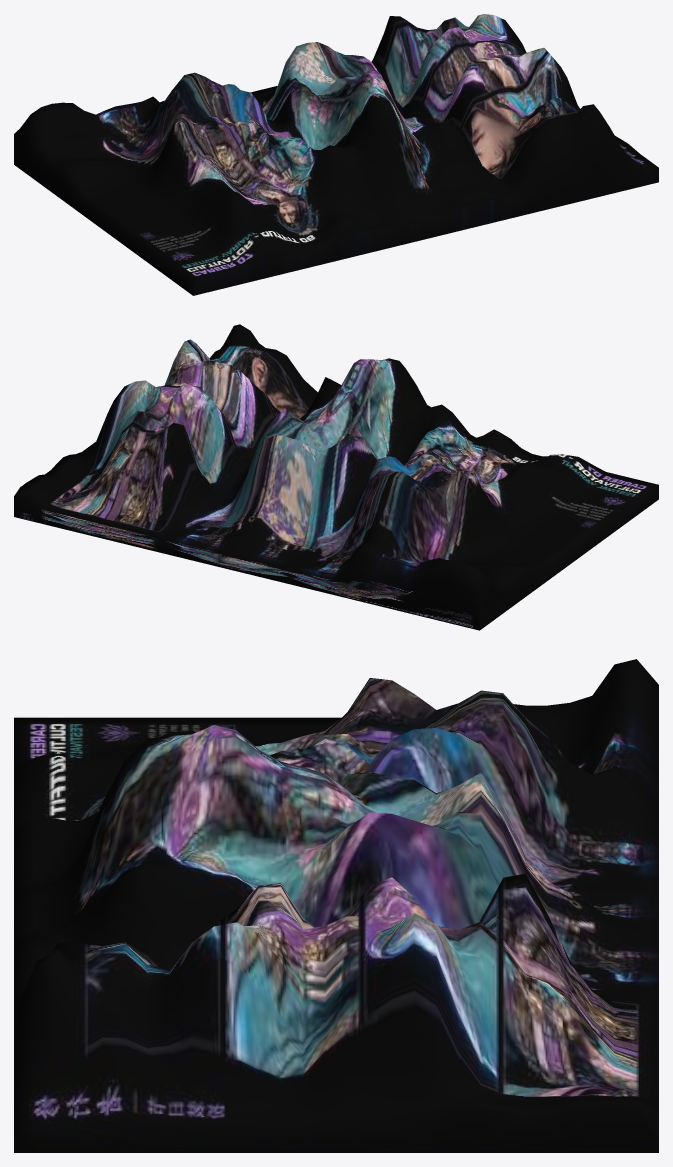
Rendered from CAREER_07_Outfit_08_Festival.glb.
3 renders of one model, top to bottom at view 1: azimuth 30°, elevation 25°; view 2: azimuth 150°, elevation 25°; view 3: azimuth 270°, elevation 25°, orthographic. The views are drawn at different scales.
Parts seen in each view (by area): view 1: CAREER_07_Outfit_08_Festival; view 2: CAREER_07_Outfit_08_Festival; view 3: CAREER_07_Outfit_08_Festival.
Boxes of the visible parts, x1,y1,x2,y2 form: CAREER_07_Outfit_08_Festival: [14, 14, 658, 295]; CAREER_07_Outfit_08_Festival: [14, 324, 658, 630]; CAREER_07_Outfit_08_Festival: [14, 659, 658, 1152].
Bounding box in the file's own units: 2 × 0.51 × 1.33.
Materials: 1 (1 with a texture image).
